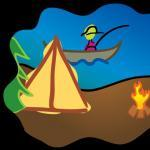boat: (41, 37, 127, 65)
person: (81, 23, 101, 50)
